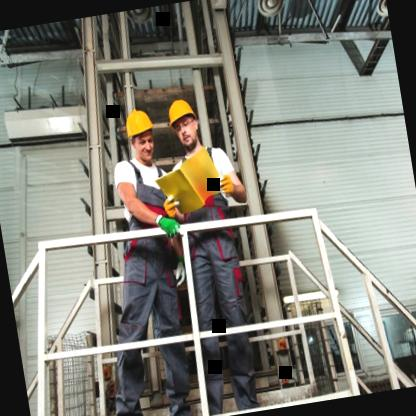helmet: (119, 102, 162, 166), (161, 91, 205, 149)
